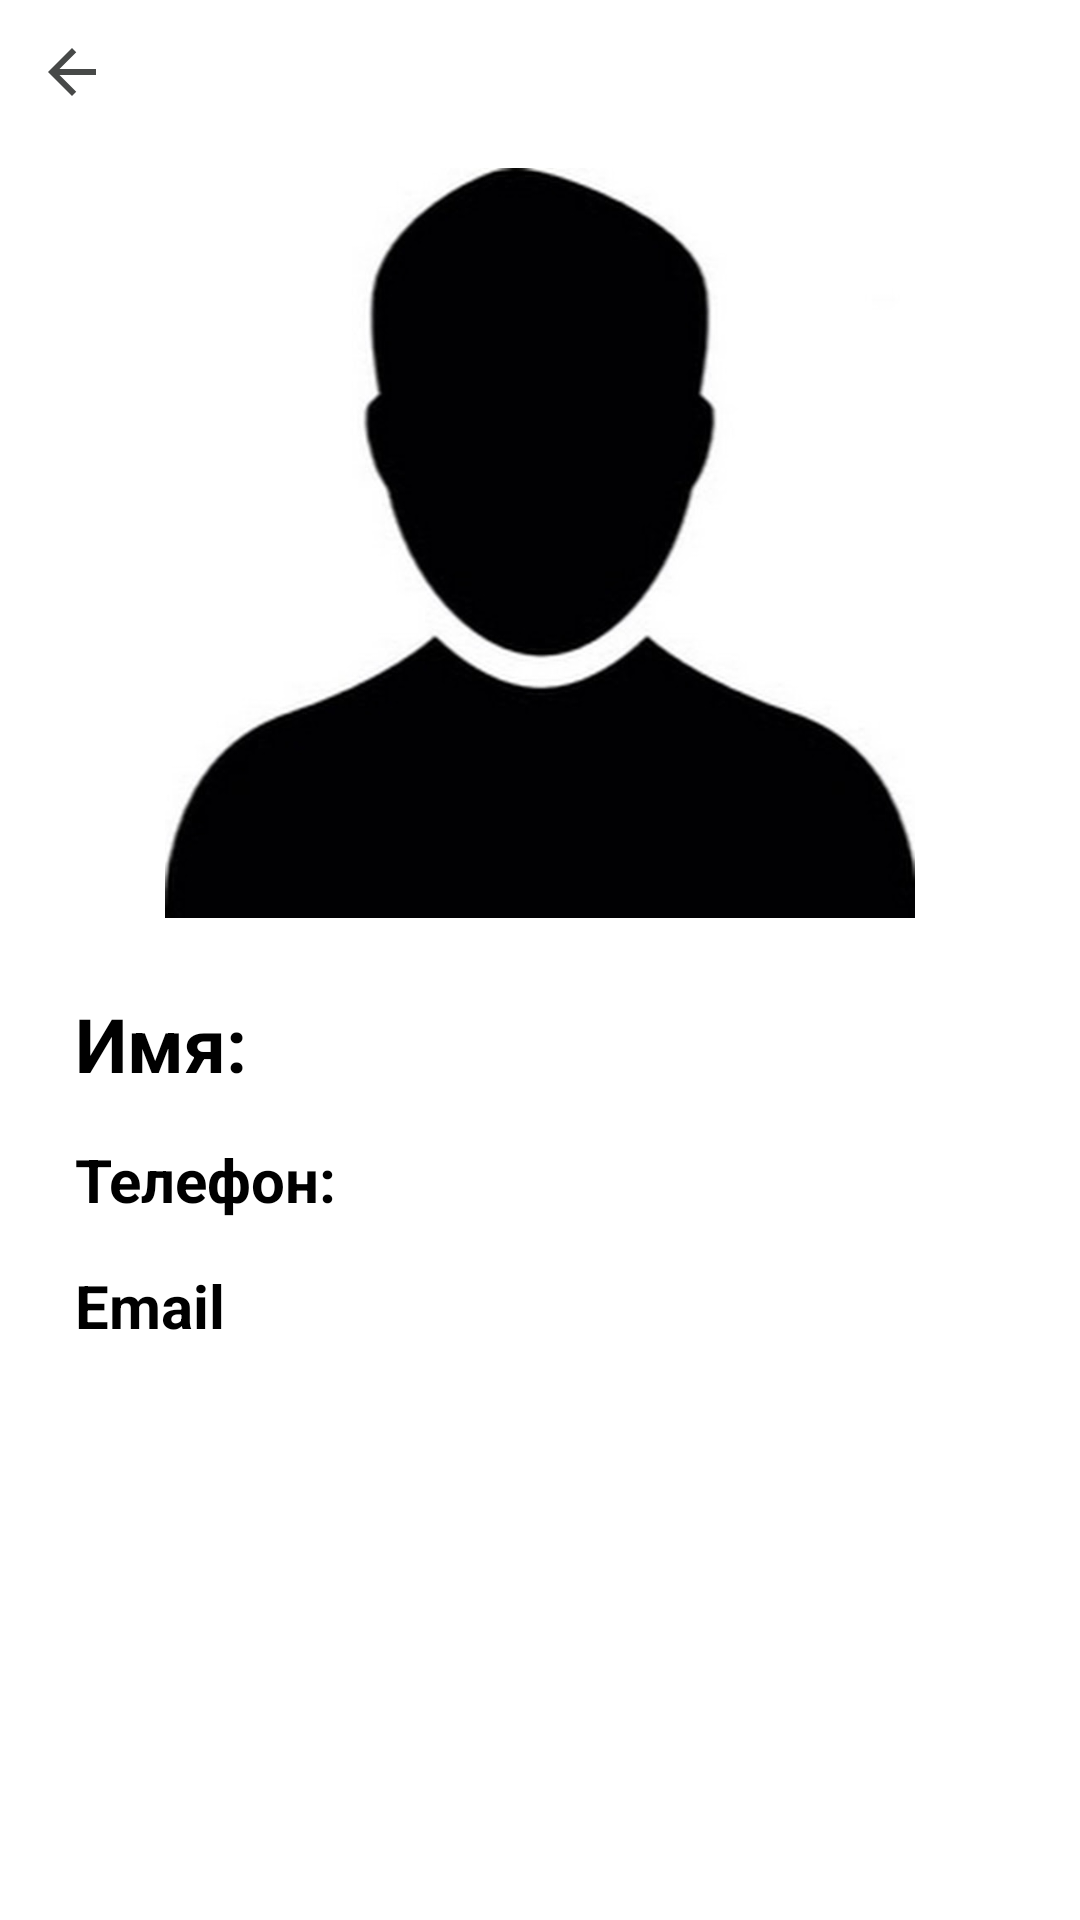

Locate icon controls on the screen. Image size 1080px x 1920px, boxes as (x1, y1, x2, y2).
back: (48, 48, 96, 96)
